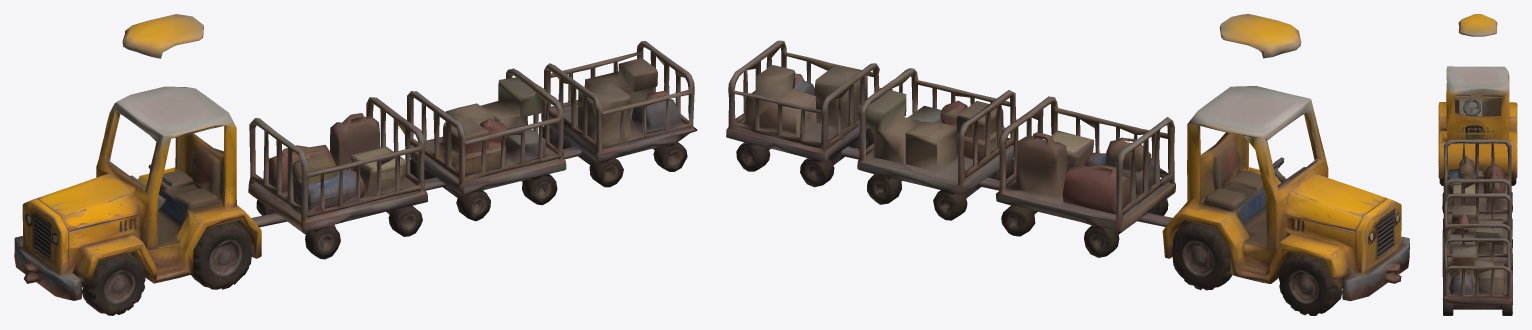
File: airport_baggage_tractor.glb
3 views of the same model, side by side, from view 1: azimuth 30°, elevation 25°; view 2: azimuth 150°, elevation 25°; view 3: azimuth 270°, elevation 25° (orthographic). The views are drawn at different scales.
Visible parts, largest first — view 1: tripo_node_f4c7f51f-6d40-404d-b4bb-bc9c8363fc64; view 2: tripo_node_f4c7f51f-6d40-404d-b4bb-bc9c8363fc64; view 3: tripo_node_f4c7f51f-6d40-404d-b4bb-bc9c8363fc64.
Part boxes in pixels (x1,y1,x2,y2): tripo_node_f4c7f51f-6d40-404d-b4bb-bc9c8363fc64: (14,14,697,315); tripo_node_f4c7f51f-6d40-404d-b4bb-bc9c8363fc64: (726,14,1409,315); tripo_node_f4c7f51f-6d40-404d-b4bb-bc9c8363fc64: (1438,14,1517,315).
Size of the model in its own units: 1 by 0.3676 by 0.173.
1 material, 1 textured.
